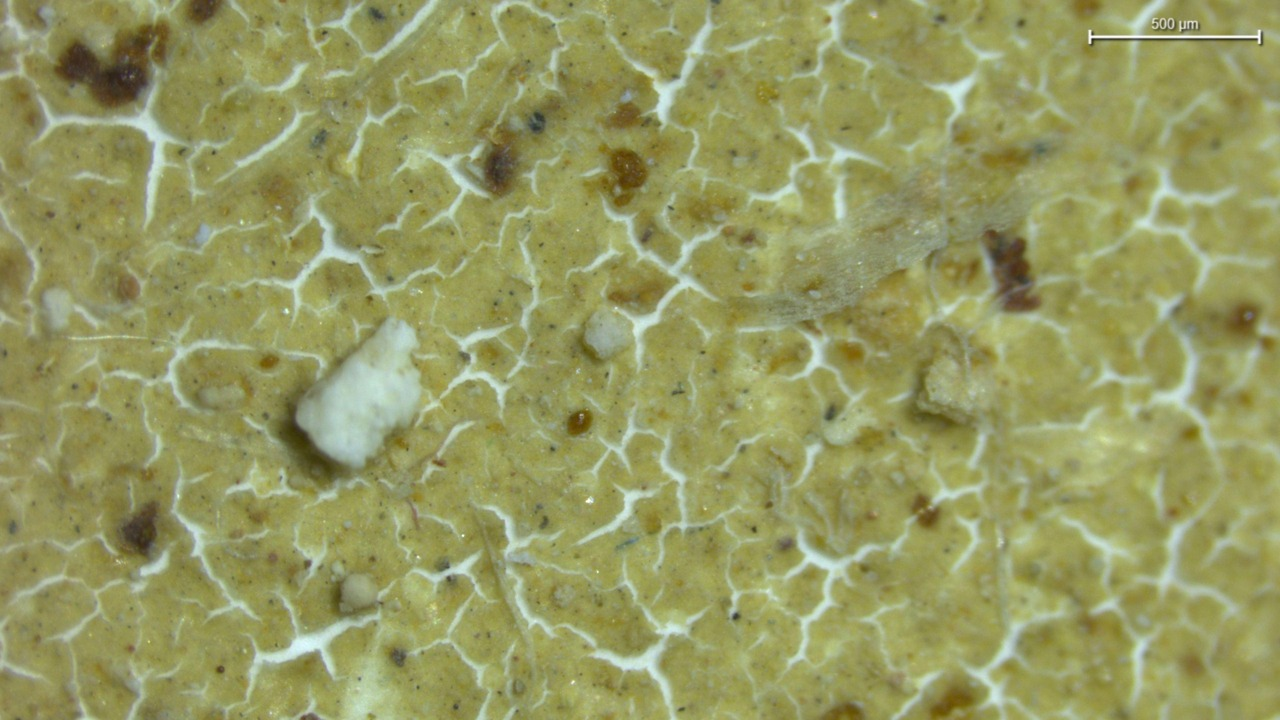microplastic_fragment: (291, 318, 425, 472), (914, 348, 991, 427), (588, 307, 639, 363)
